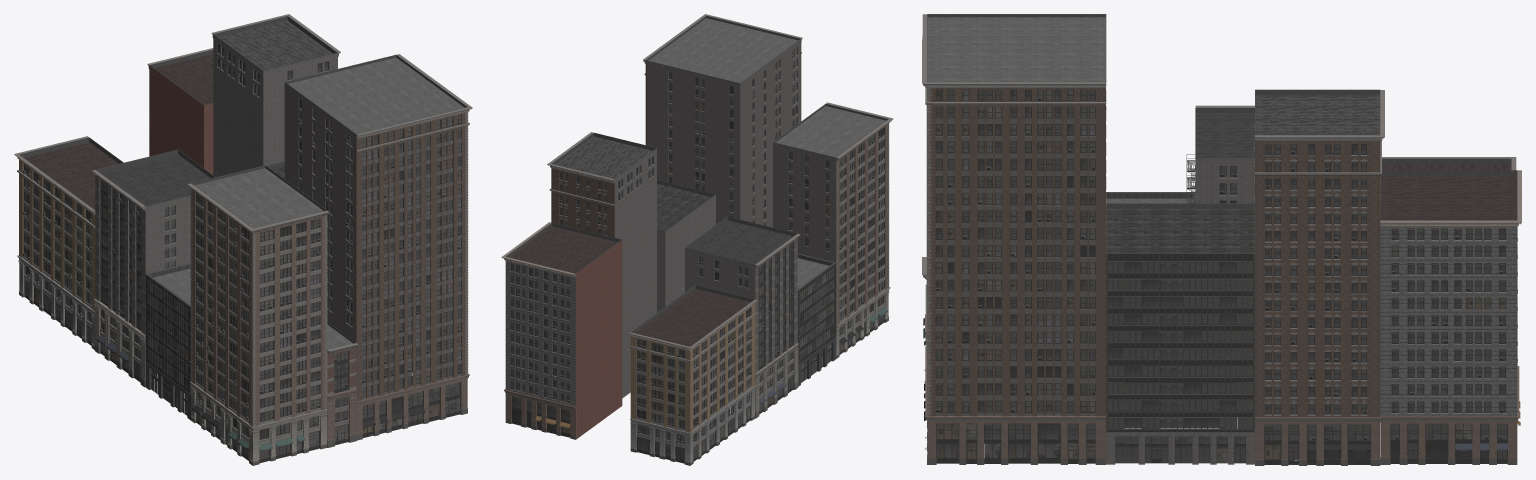
The model's file is block_01.glb.
3 views of the same model, side by side, from view 1: azimuth 30°, elevation 25°; view 2: azimuth 150°, elevation 25°; view 3: azimuth 270°, elevation 25° (orthographic). The views are drawn at different scales.
Parts seen in each view (by area): view 1: block_01_joined; view 2: block_01_joined; view 3: block_01_joined.
Part boxes in pixels (box(x1,y1,x2,y2)): block_01_joined: box(14, 14, 472, 465); block_01_joined: box(501, 14, 893, 465); block_01_joined: box(922, 14, 1521, 465).
Bounding box in the file's own units: 135 × 177 × 251.
Materials: 61 (60 with a texture image).
